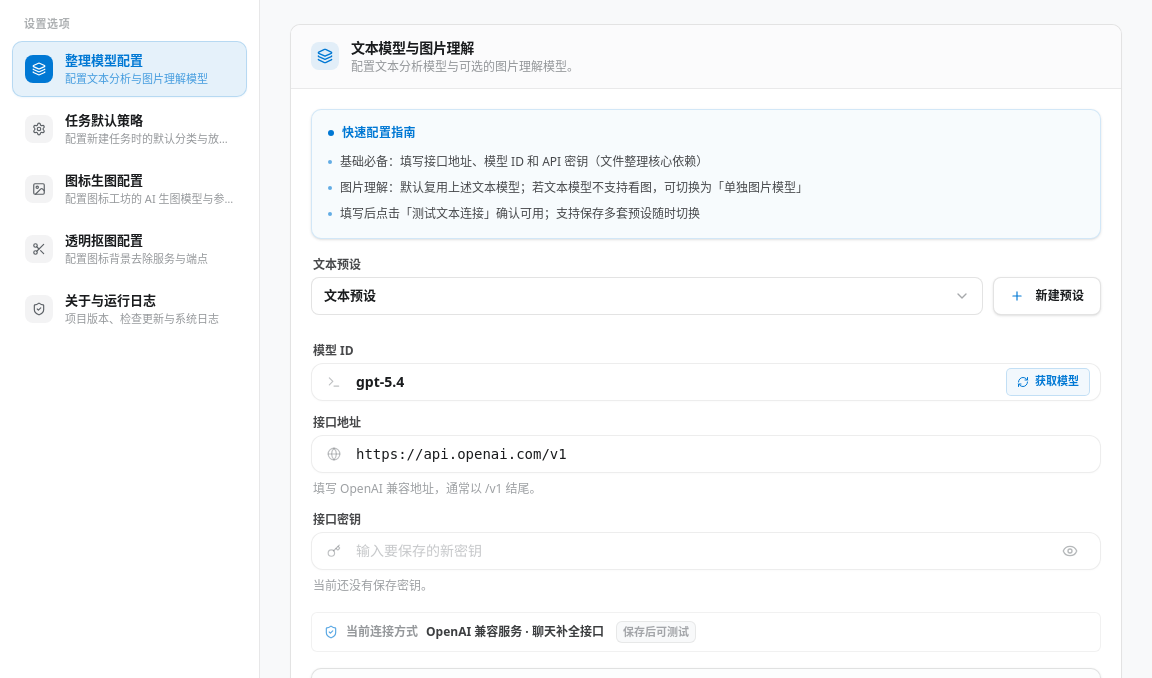
Test: SettingsPage preset flow › fetches models from the current text endpoint and fills the selected model id
Click the button "获取模型".
click(1048, 382)  # box [1006,368,1090,396]
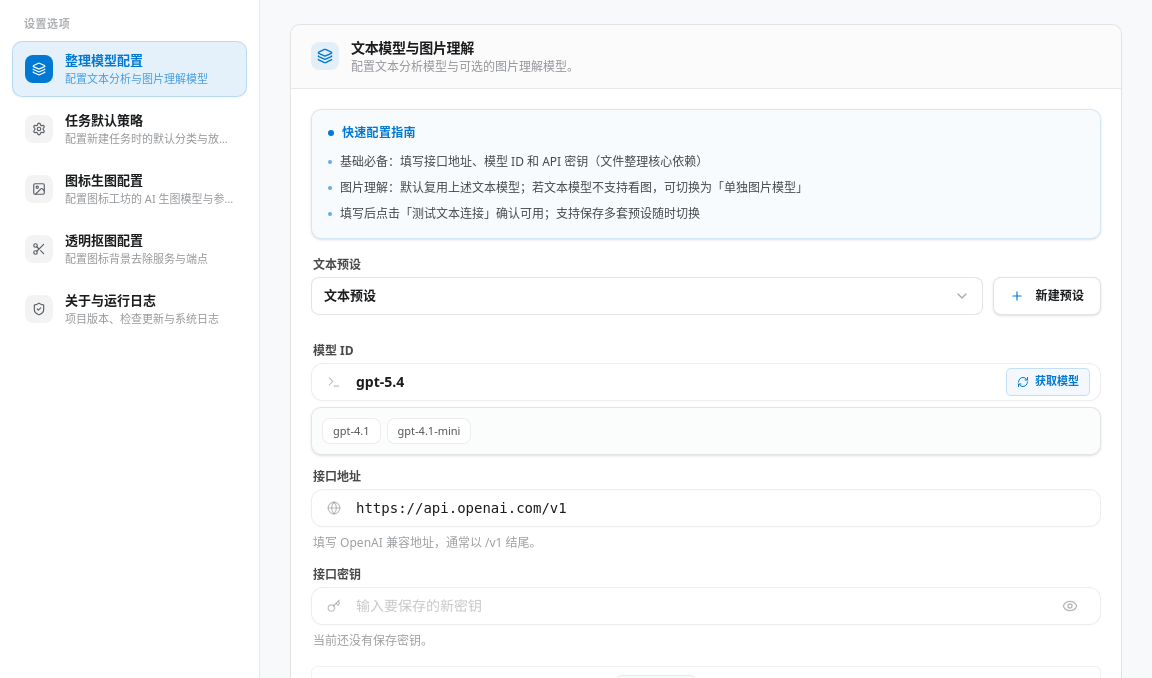
Expected: the button "gpt-4.1" is shown
Click the button "gpt-4.1".
click(351, 431)  # box [322,418,381,444]
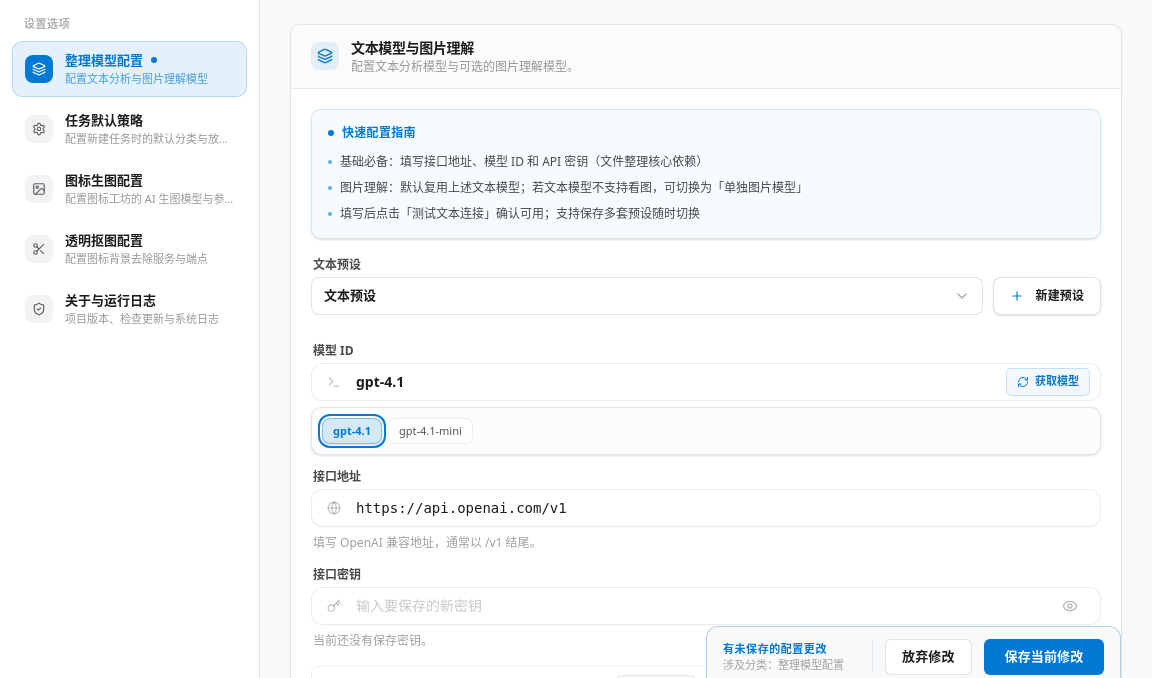
Expected: the field showing "gpt-4.1" is shown, [356,364,996,400]
